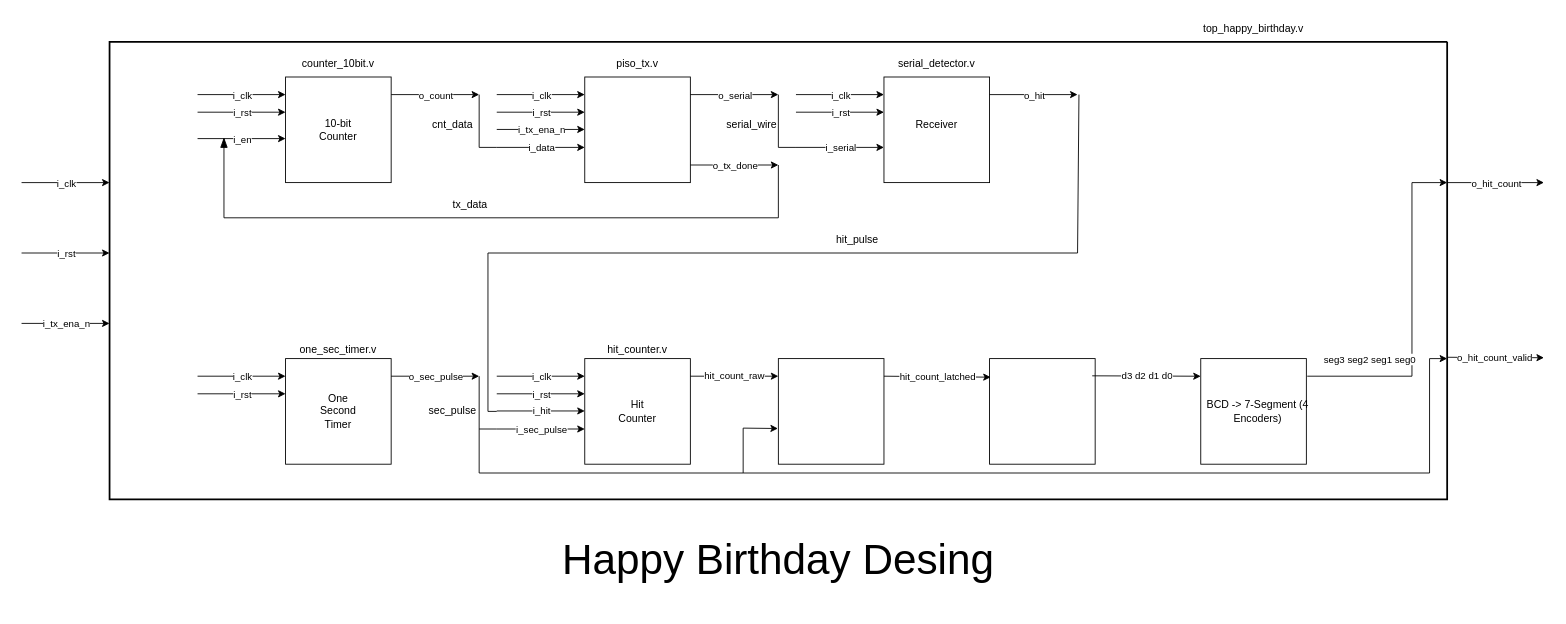
The diagram is 1566 pixels wide and 624 high, and some of its shapes have lost their labels. Each missing label, with the centre of its shape:
"1-Second Latch (Freeze value)" goes at (830,411).
"Binary -> BCD" goes at (1042,411).
"Transmitter (PISO)" goes at (637,129).
